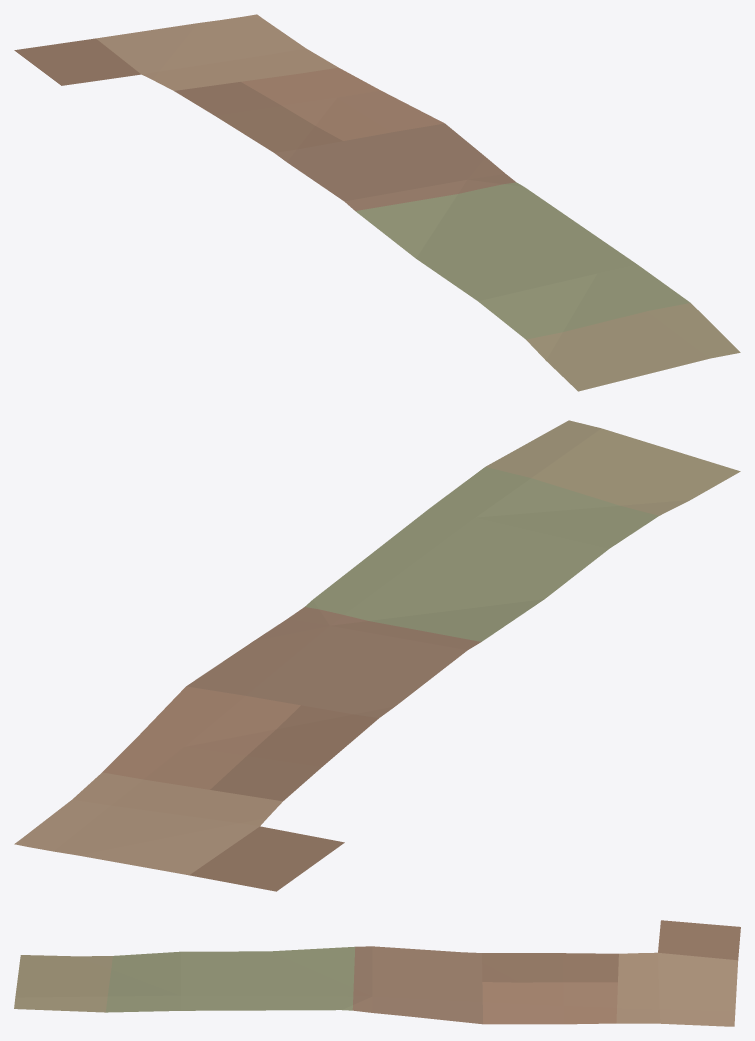
Rendered from farm_-7_10_soil.glb.
The picture shows the model from 3 angles, top to bottom: view 1: azimuth 30°, elevation 25°; view 2: azimuth 150°, elevation 25°; view 3: azimuth 270°, elevation 25°; orthographic projection. The views are drawn at different scales.
Visible parts, largest first — view 1: geometry_0; view 2: geometry_0; view 3: geometry_0.
Part boxes in pixels (x1,y1,x2,y2): geometry_0: (14, 14, 740, 391); geometry_0: (14, 420, 740, 891); geometry_0: (14, 920, 740, 1026).
Bounding box in the file's own units: 93.34 × 10.78 × 304.
